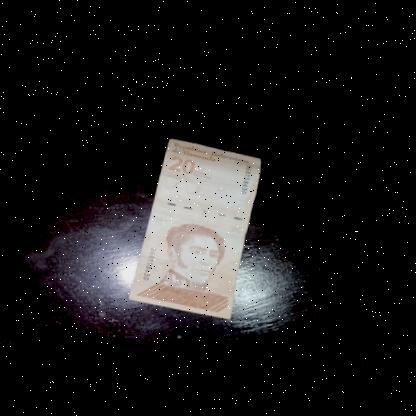twenty-front-vef: (130, 133, 271, 319)
